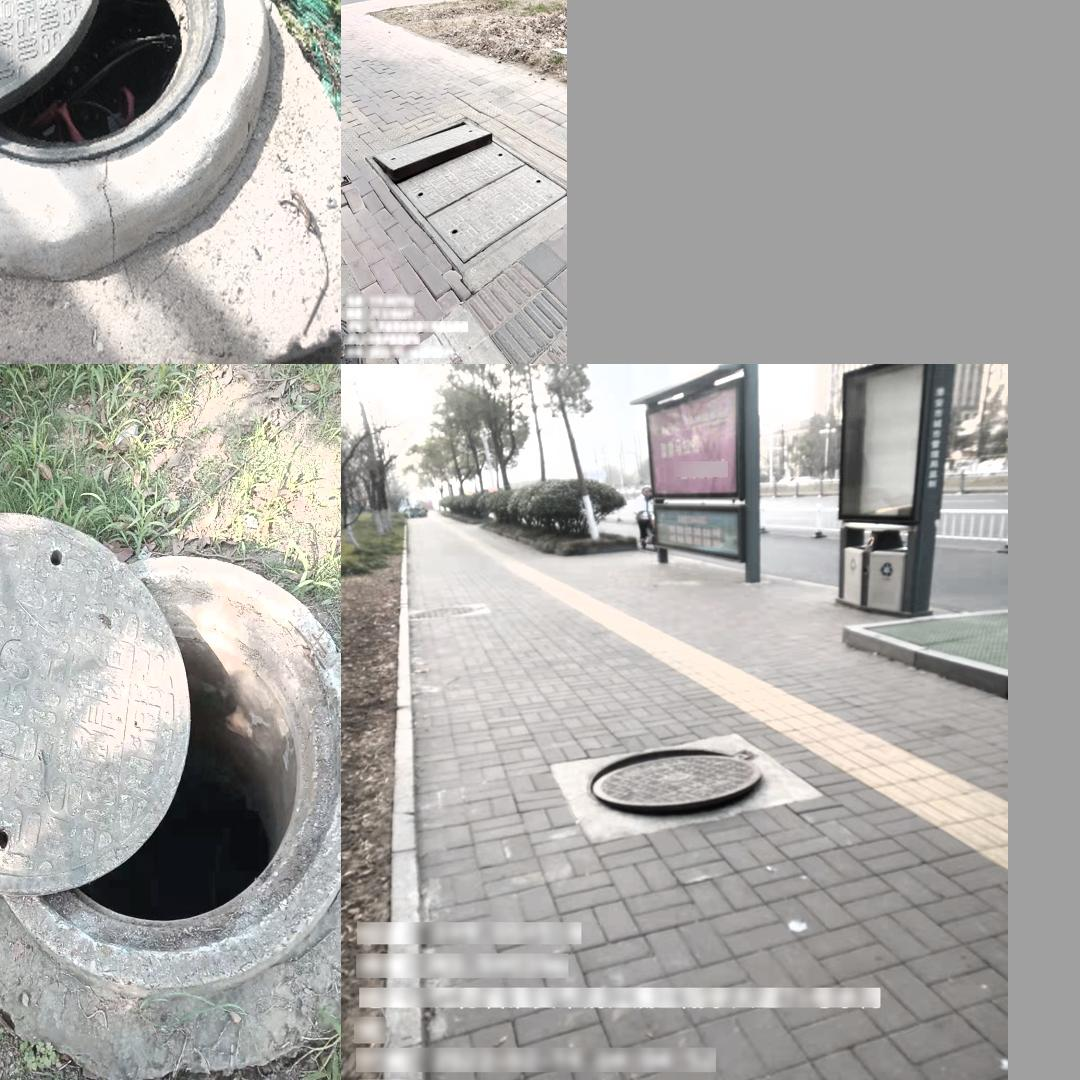uncovered: (0, 509, 341, 992), (0, 0, 224, 165), (364, 117, 567, 271), (584, 745, 767, 822)
